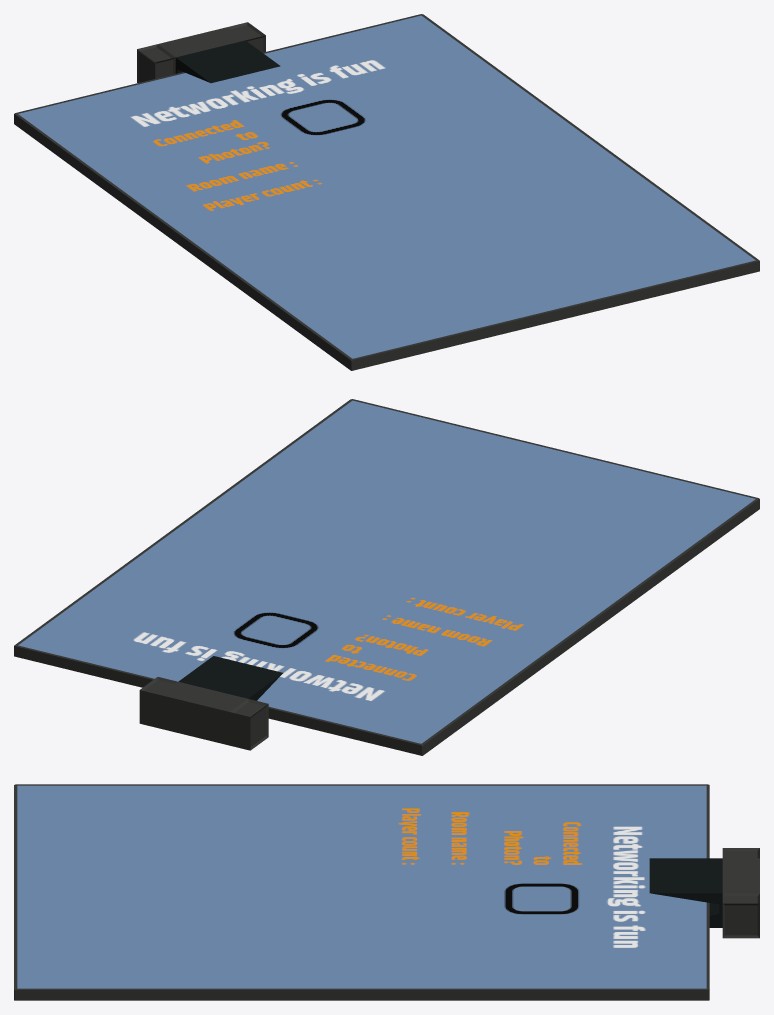
File: clipboard_networking.obj
The picture shows the model from 3 angles, top to bottom: view 1: azimuth 30°, elevation 25°; view 2: azimuth 150°, elevation 25°; view 3: azimuth 270°, elevation 25°; orthographic projection. The views are drawn at different scales.
Parts seen in each view (by area): view 1: clipboard_networking; view 2: clipboard_networking; view 3: clipboard_networking.
Part boxes in pixels (x1,y1,x2,y2): clipboard_networking: (14,14,759,370); clipboard_networking: (14,399,759,755); clipboard_networking: (14,784,759,1000).
Bounding box in the file's own units: 0.2144 × 0.0169 × 0.3289.
Materials: 4 (1 with a texture image).
